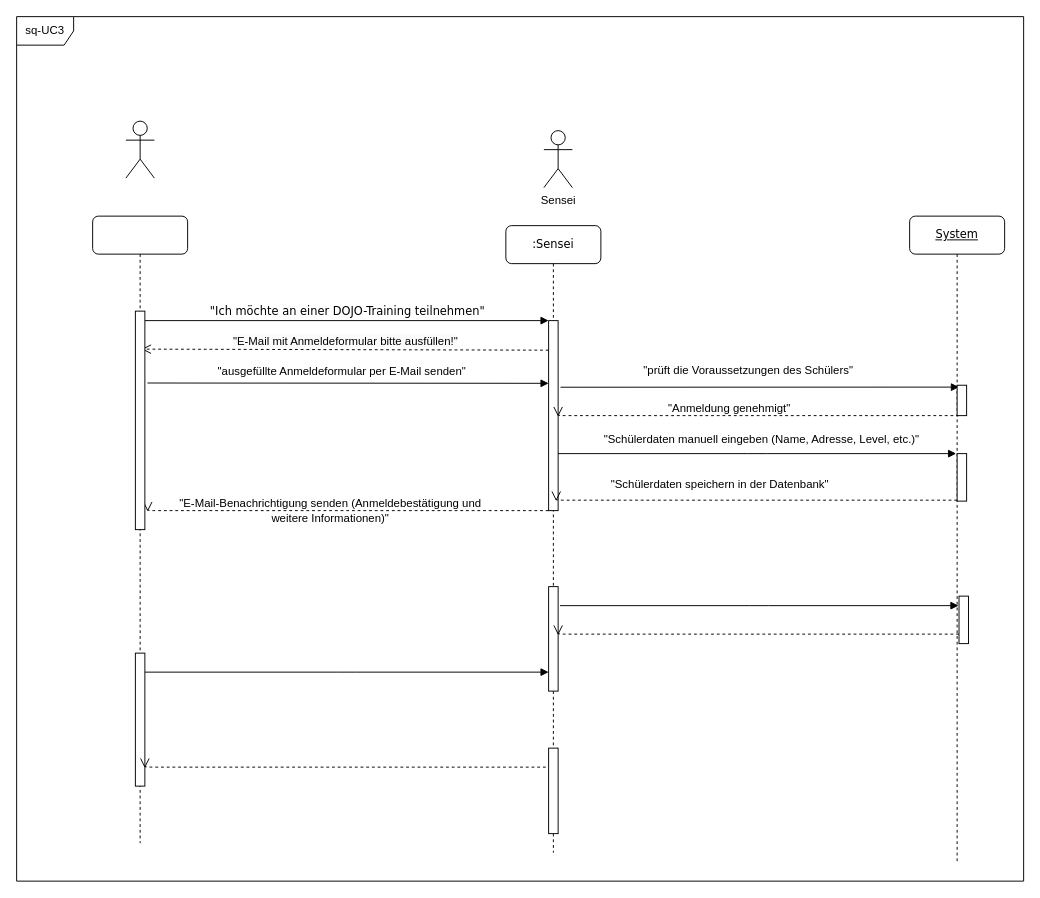
This 1040x898 diagram has some shape labels left out. The centre of each missing label's shape, as x and y in pixels:
:DOJO Schüler: the point at 140,529
DOJO Schüler: the point at 139,149
